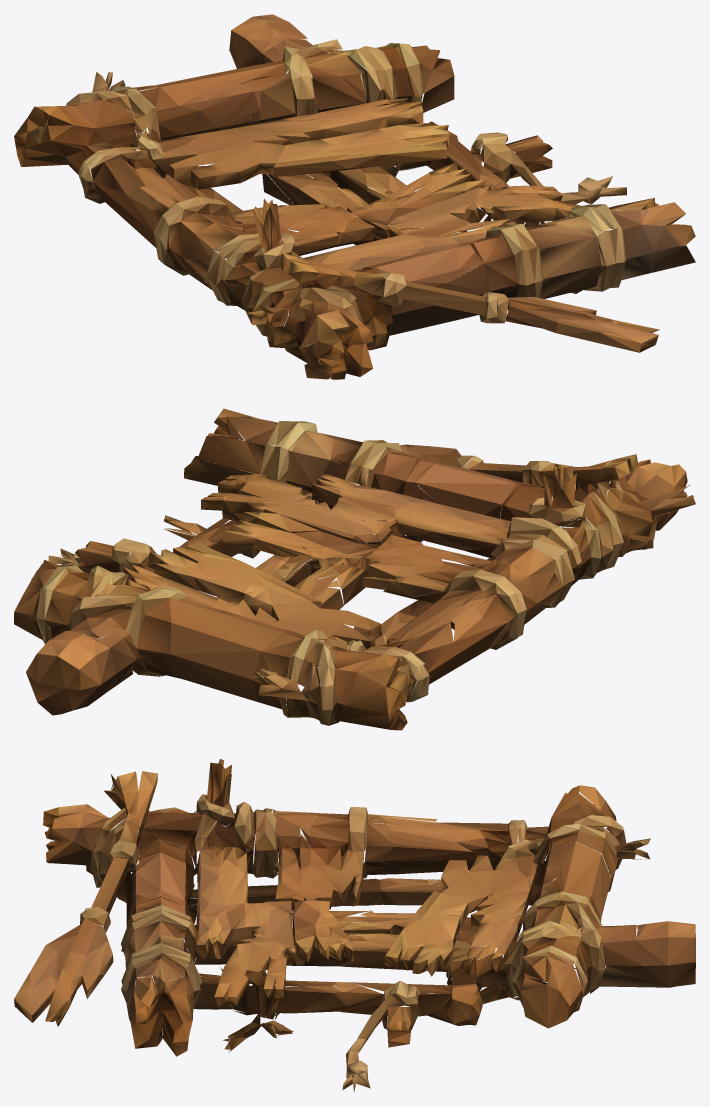
The model's file is building-brokenRaft.glb.
3 renders of one model, top to bottom at view 1: azimuth 30°, elevation 25°; view 2: azimuth 150°, elevation 25°; view 3: azimuth 270°, elevation 25°, orthographic. The views are drawn at different scales.
Visible parts, largest first — view 1: 0_brokenRaft; view 2: 0_brokenRaft; view 3: 0_brokenRaft.
Boxes of the visible parts, x1,y1,x2,y2 form: 0_brokenRaft: [14, 14, 695, 379]; 0_brokenRaft: [14, 408, 695, 730]; 0_brokenRaft: [14, 759, 695, 1092].
Bounding box in the file's own units: 1.92 × 0.5845 × 2.41.
